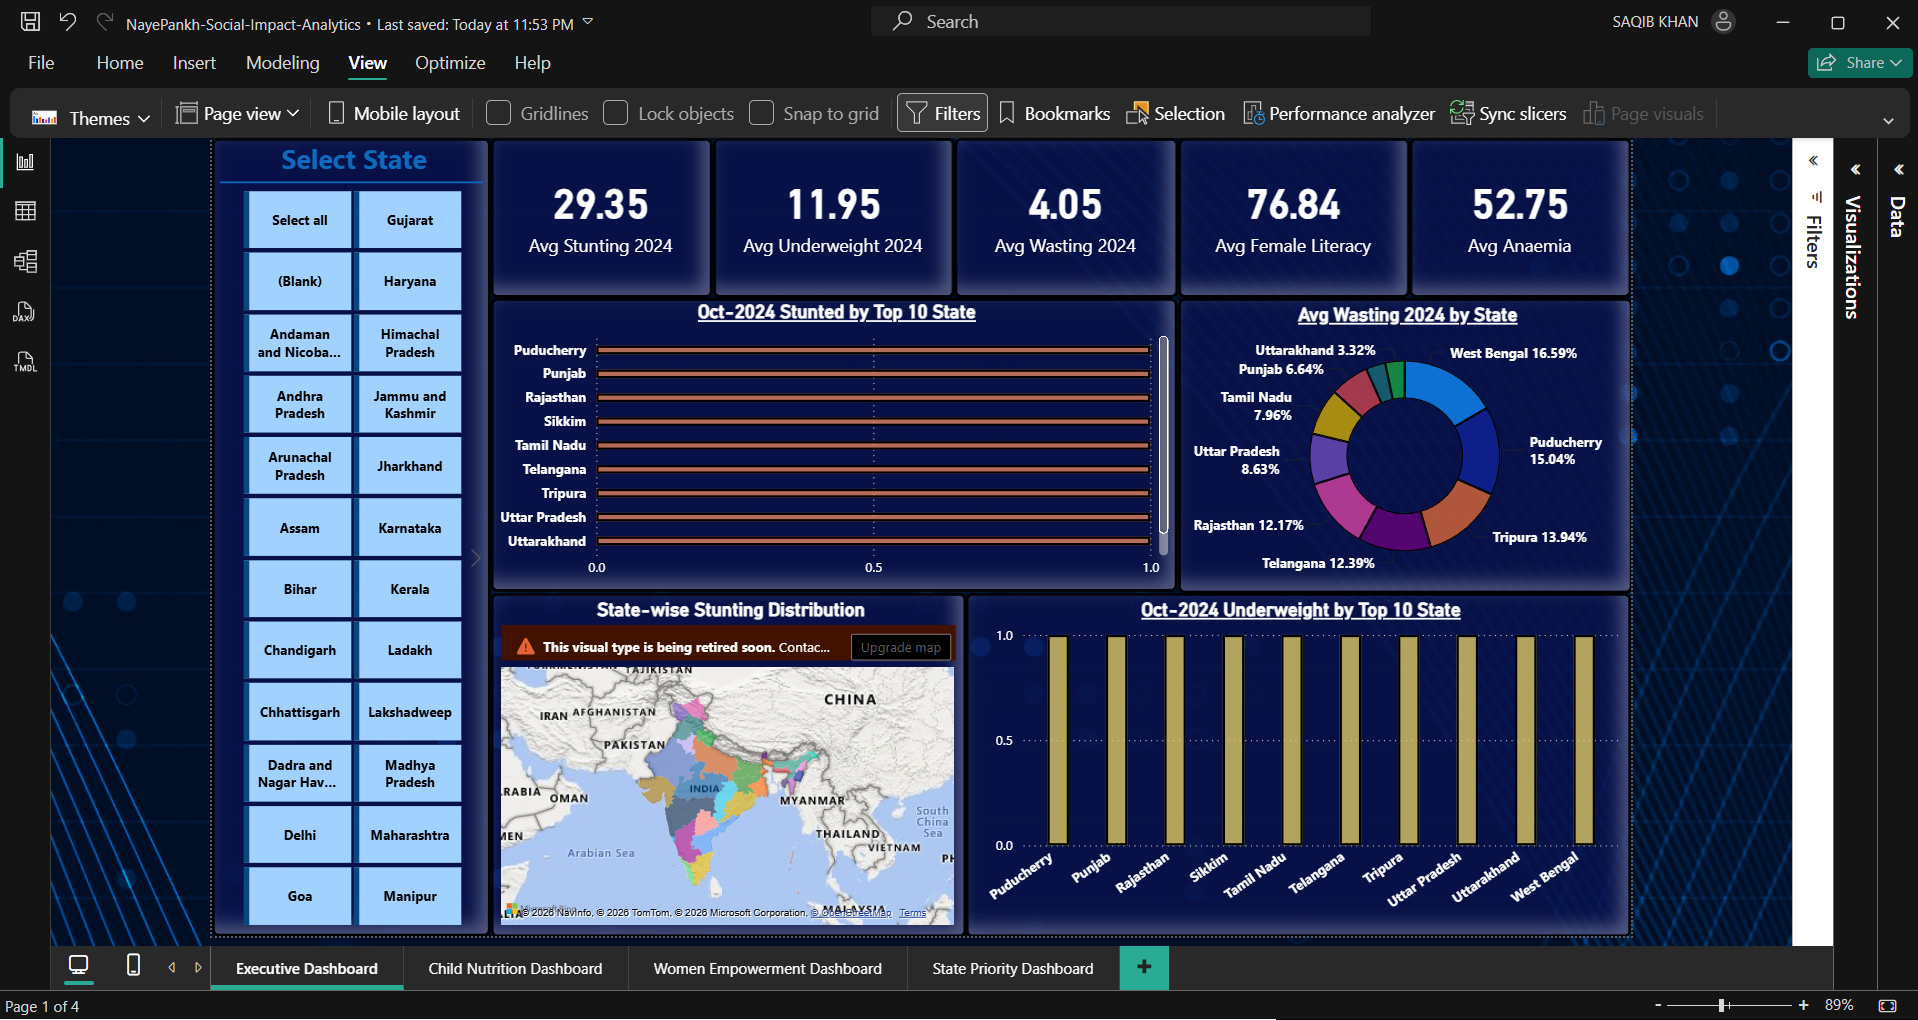

The page's visual inventory and layout, read from the dashboard file:
{"tool":"powerbi","page":{"name":"Executive Dashboard","canvas":[1280,720],"ordinal":0},"visuals":[{"type":"advanceCardE03760C5AB684758B56AA29F9E6C257B","fields":{"mainMeasure":["Poshan.Avg Stunting 2024"]},"box":[251.4,0,200,144.3],"z":0},{"type":"advanceCardE03760C5AB684758B56AA29F9E6C257B","fields":{"mainMeasure":["Poshan.Avg Underweight 2024"]},"box":[451.6,0,217.7,144.3],"z":1000},{"type":"advanceCardE03760C5AB684758B56AA29F9E6C257B","fields":{"mainMeasure":["Poshan.Avg Wasting 2024"]},"box":[669.3,0,201.5,144.3],"z":2000},{"type":"advanceCardE03760C5AB684758B56AA29F9E6C257B","fields":{"mainMeasure":["NFHS5.Avg Female Literacy"]},"box":[870.8,0,209,144.3],"z":3000},{"type":"advanceCardE03760C5AB684758B56AA29F9E6C257B","fields":{"mainMeasure":["NFHS5.Avg Anaemia"]},"box":[1079.8,0,200.3,144.3],"z":4000},{"type":"slicer","title":"Select State","fields":{"Values":["Poshan.State/UT"]},"box":[0,0,251.3,720.3],"z":5000},{"type":"filledMap","title":"State-wise Stunting Distribution","fields":{"Category":["Poshan.State/UT"],"Series":["Poshan.October - 2024 - Stunted"]},"box":[251.4,410,428.6,310],"z":6000},{"type":"clusteredBarChart","title":"Oct-2024 Stunted by Top 10 State","fields":{"Category":["Poshan.State/UT"],"Y":["CountNonNull(Poshan.October - 2024 - Stunted)"]},"box":[251.3,144.3,619.5,265],"z":7000},{"type":"clusteredColumnChart","title":"Oct-2024 Underweight by Top 10 State","fields":{"Category":["Poshan.State/UT"],"Y":["CountNonNull(Poshan.October - 2024 - Underweight)"]},"box":[680,410,600,310],"z":8000},{"type":"donutChart","title":"Avg Wasting 2024 by State","fields":{"Category":["Poshan.State/UT"],"Y":["Poshan.Avg Wasting 2024"]},"box":[870.8,144.3,409.3,266.2],"z":9000}]}

Visuals, with their boxes on the page's 1280x720 design canvas (x1, y1, x2, y2). These are canvas units, not pixel positions in the 1918x1020 screenshot, which may show the page scaled, cropped or inside an application window:
advanceCardE03760C5AB684758B56AA29F9E6C257B - Poshan.Avg Stunting 2024: 251,0,451,144
advanceCardE03760C5AB684758B56AA29F9E6C257B - Poshan.Avg Underweight 2024: 452,0,669,144
advanceCardE03760C5AB684758B56AA29F9E6C257B - Poshan.Avg Wasting 2024: 669,0,871,144
advanceCardE03760C5AB684758B56AA29F9E6C257B - NFHS5.Avg Female Literacy: 871,0,1080,144
advanceCardE03760C5AB684758B56AA29F9E6C257B - NFHS5.Avg Anaemia: 1080,0,1280,144
"Select State" slicer: 0,0,251,720
"State-wise Stunting Distribution" filledMap: 251,410,680,720
"Oct-2024 Stunted by Top 10 State" clusteredBarChart: 251,144,871,409
"Oct-2024 Underweight by Top 10 State" clusteredColumnChart: 680,410,1280,720
"Avg Wasting 2024 by State" donutChart: 871,144,1280,410
